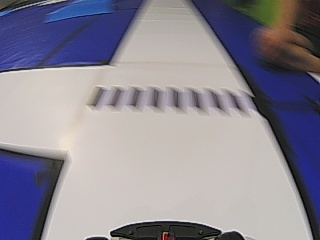CrossWalk: (87, 87, 241, 113)
